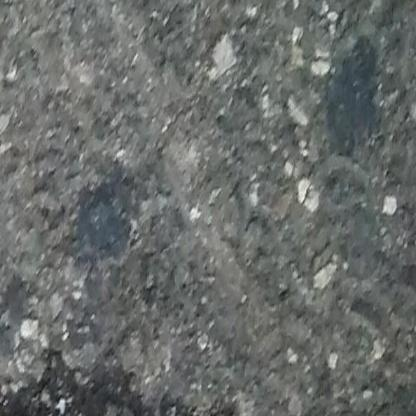Cracks: (0, 349, 238, 416)
